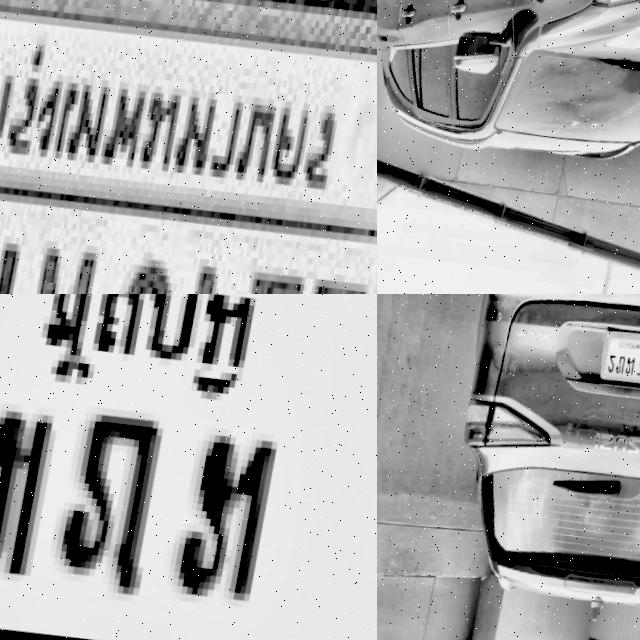license-plate: (0, 294, 377, 640), (0, 0, 377, 294), (596, 318, 640, 391)
